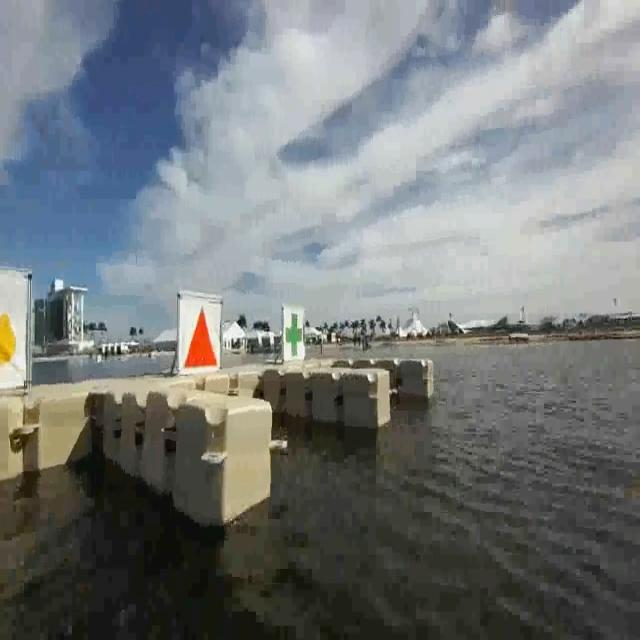blue-cross: (284, 306, 306, 363)
yellow-duck: (0, 268, 32, 390)
